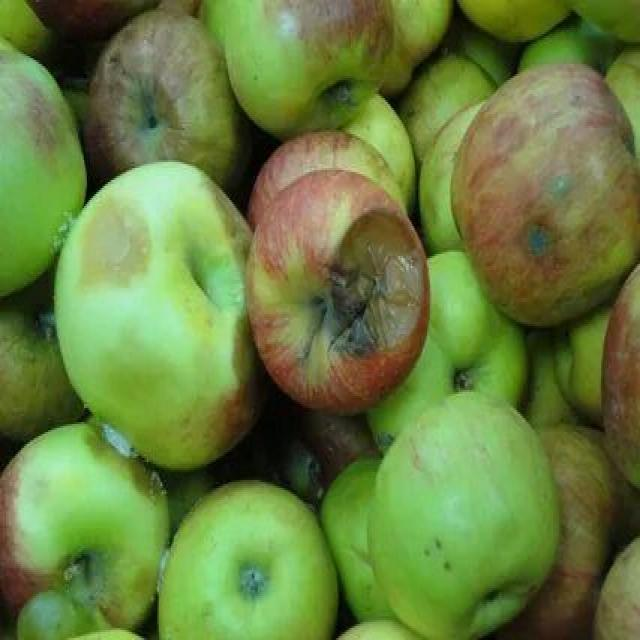Fresh Apple: (56, 172, 262, 462), (368, 420, 577, 640)
Rotten: (242, 178, 438, 400), (461, 96, 640, 318)
